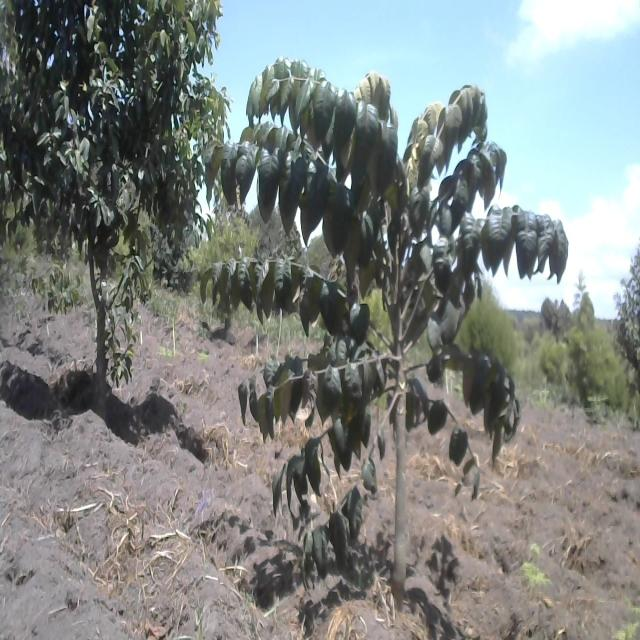Polyscias Kikuyensis: (203, 53, 571, 598)
Prunus Africana: (6, 3, 227, 425)
